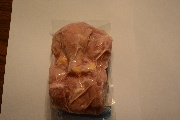chicken: (47, 20, 115, 118)
